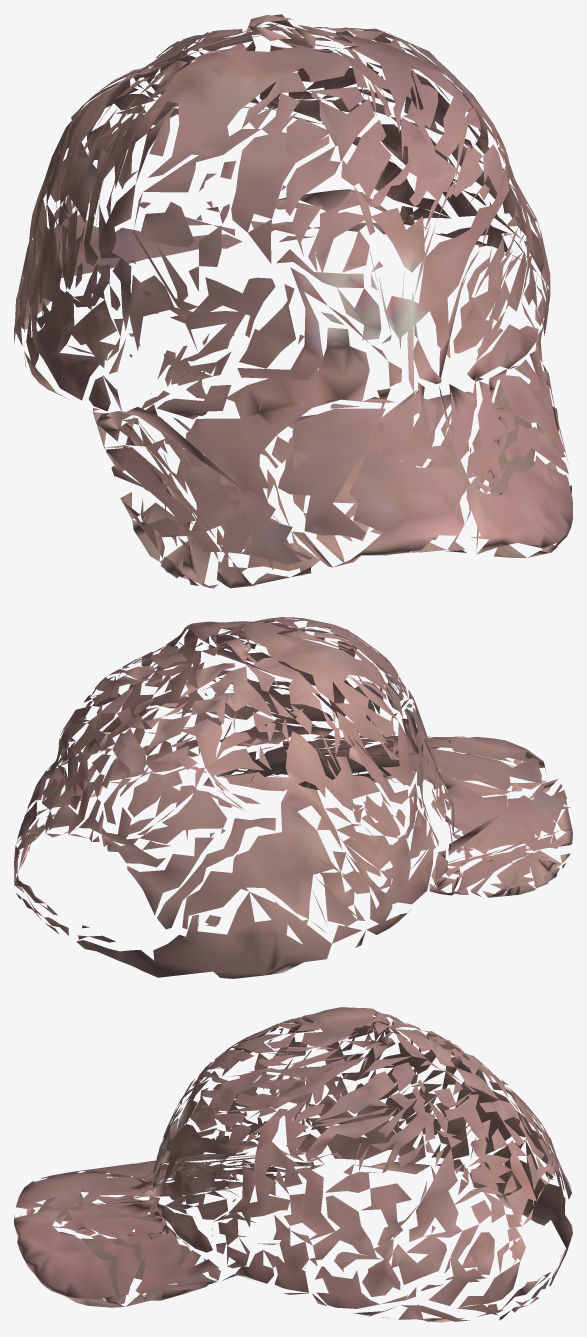
The picture shows the model from 3 angles, top to bottom: view 1: azimuth 30°, elevation 25°; view 2: azimuth 150°, elevation 25°; view 3: azimuth 270°, elevation 25°; orthographic projection. The views are drawn at different scales.
Parts seen in each view (by area): view 1: Geode; view 2: Geode; view 3: Geode.
Part boxes in pixels (box(x1,y1,x2,y2)): Geode: box(14, 14, 572, 588); Geode: box(14, 617, 572, 978); Geode: box(14, 1007, 572, 1322).
Size of the model in its own units: 200 by 139 by 273.
